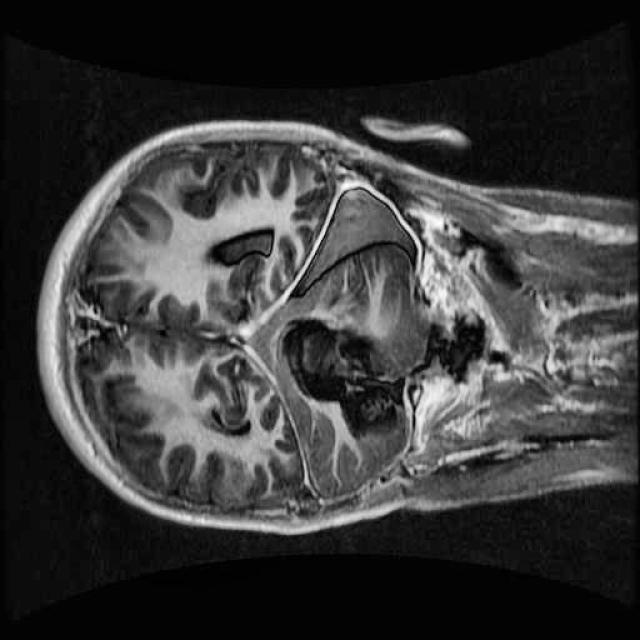Non-Tumor: (266, 288, 421, 468)
